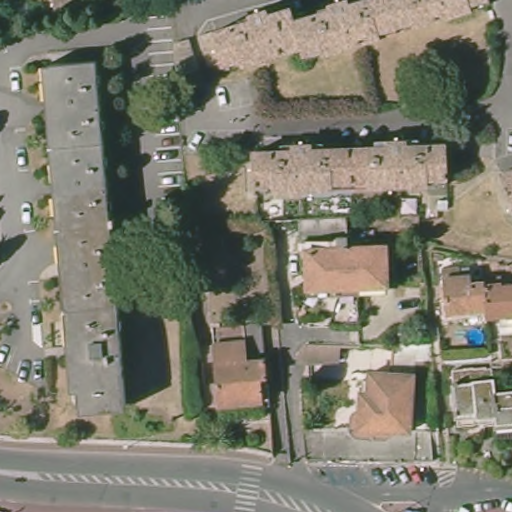pool: (463, 324, 487, 350)
